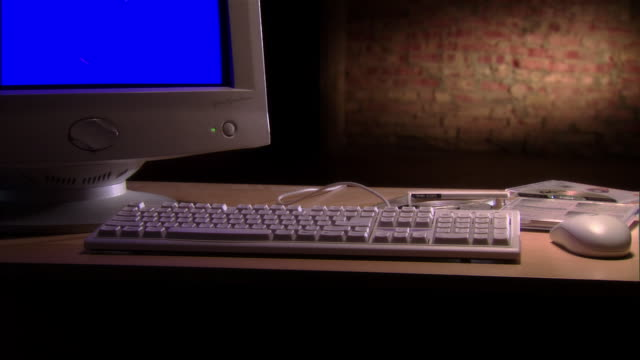keyboard: (81, 185, 534, 283)
mouse: (543, 203, 639, 266)
